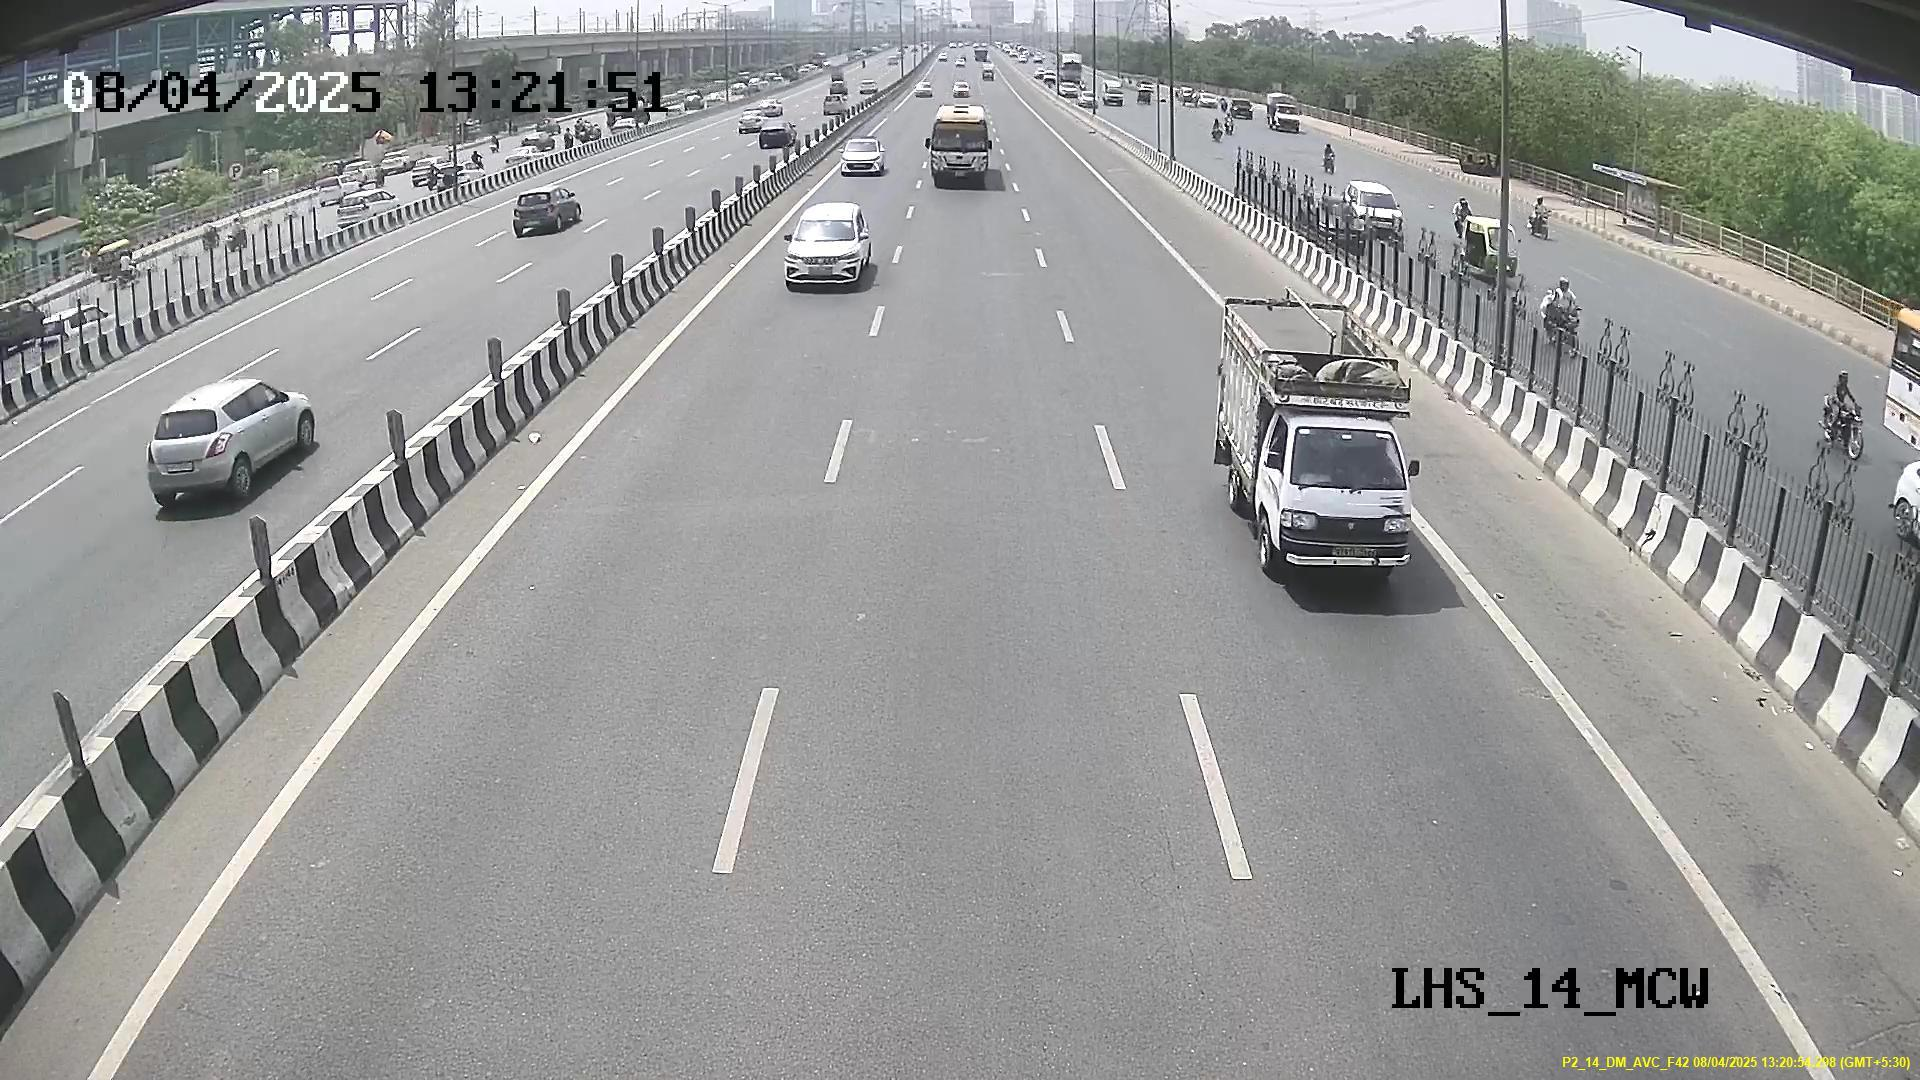bus: (927, 108, 993, 190)
car: (1254, 405, 1419, 585), (775, 207, 874, 291)
